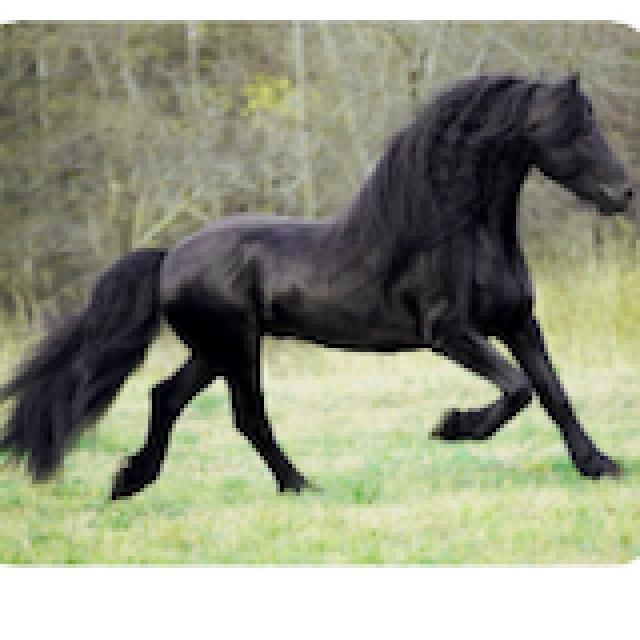Horse: (0, 64, 636, 504)
